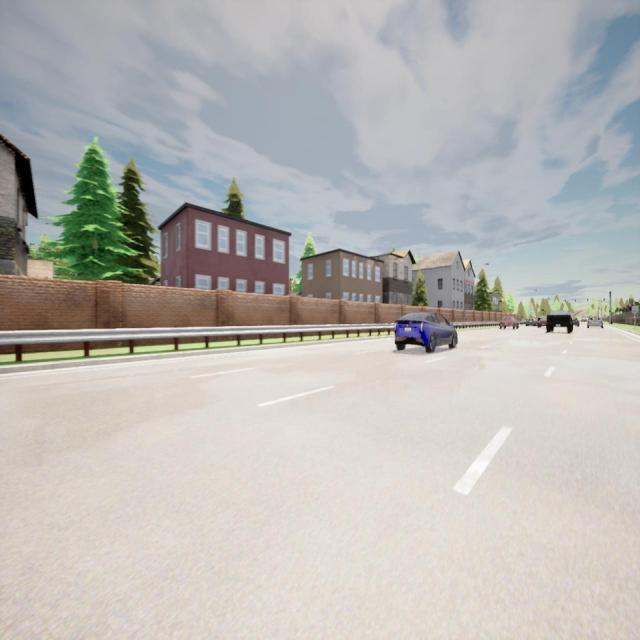Traffic_Signs: (632, 306, 638, 313)
Vehicle: (395, 311, 457, 352), (546, 310, 571, 332), (498, 316, 520, 330), (587, 315, 603, 329), (526, 317, 536, 328), (538, 316, 546, 328), (572, 317, 580, 327), (581, 319, 587, 323)
traffic_light: (609, 309, 611, 313), (565, 299, 566, 303), (575, 299, 576, 302), (604, 298, 604, 302), (588, 299, 588, 302)
